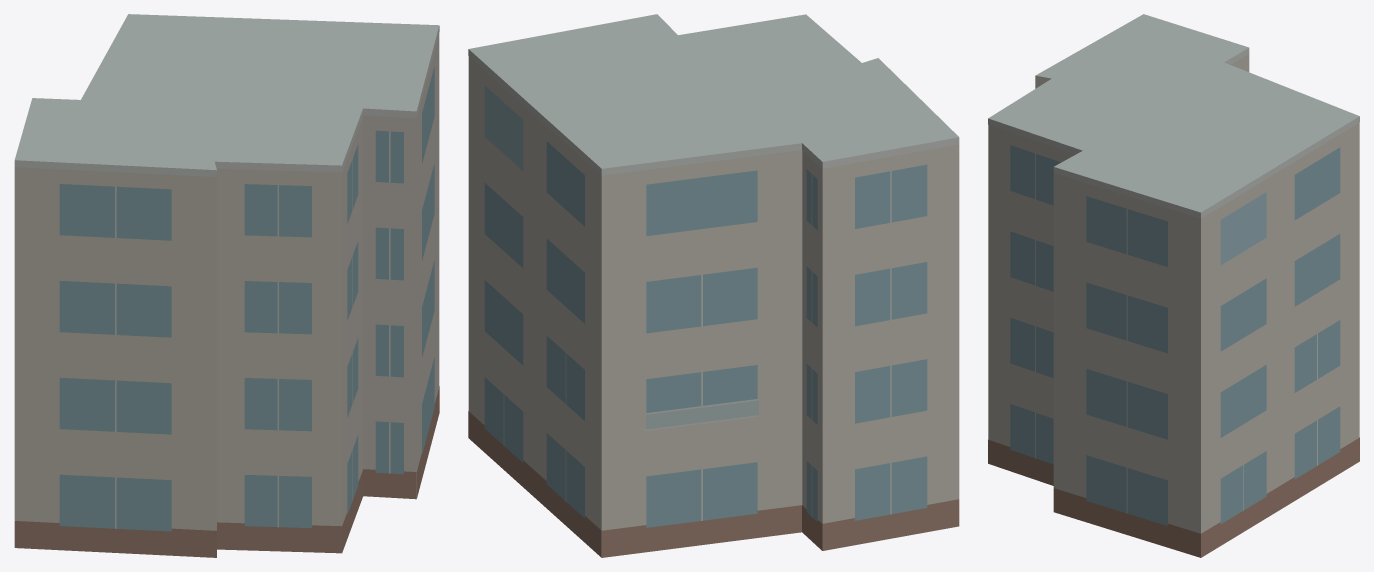
File: survey-upis-32682296.glb
The picture shows the model from 3 angles, left to right: view 1: azimuth 30°, elevation 25°; view 2: azimuth 150°, elevation 25°; view 3: azimuth 270°, elevation 25°; orthographic projection. The views are drawn at different scales.
Visible parts, largest first — view 1: survey-upis-32682296.tmp; view 2: survey-upis-32682296.tmp; view 3: survey-upis-32682296.tmp.
Boxes of the visible parts, left/top/right/bottom form: survey-upis-32682296.tmp: left=14, top=14, right=439, bottom=557; survey-upis-32682296.tmp: left=468, top=14, right=959, bottom=557; survey-upis-32682296.tmp: left=988, top=14, right=1359, bottom=557.
Bounding box in the file's own units: 16.88 × 13.68 × 13.35.
